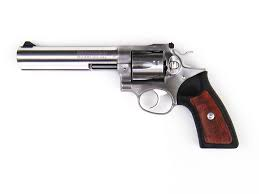Gun: (13, 31, 244, 157)
